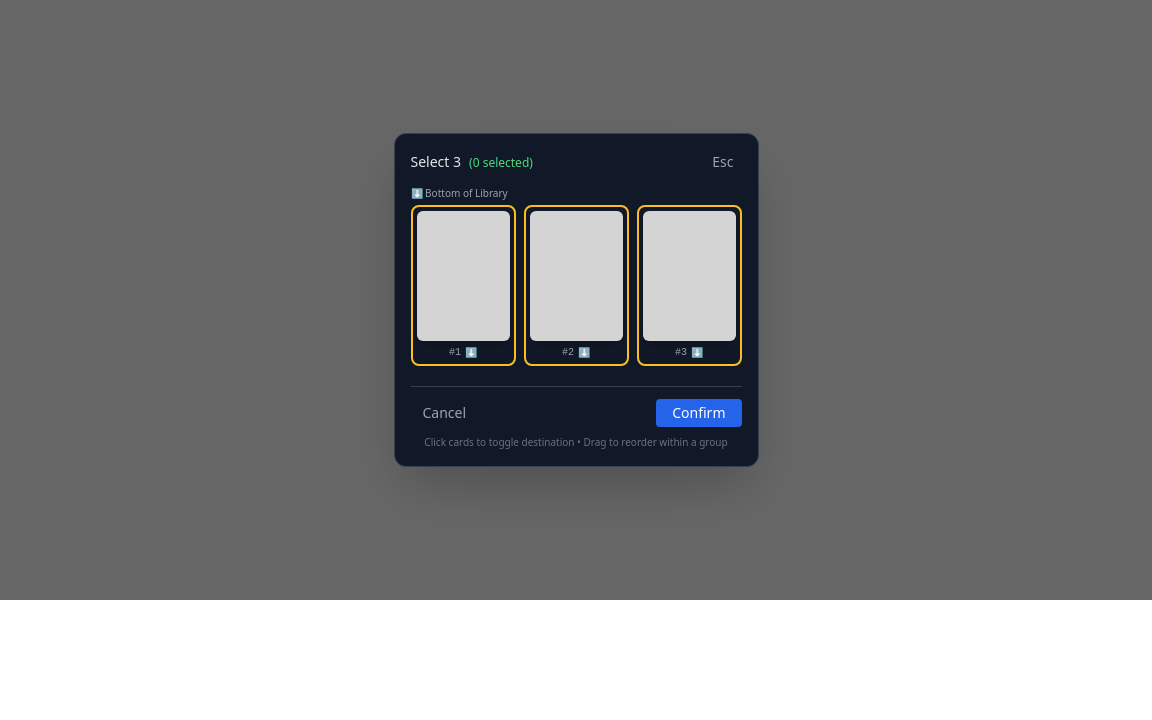
Test: PeekModal › select mode › click moves card to hand and shows selected count
This screenshot has width=1152, height=720.
Step 1. Click the button named "img" → (463, 286), box left=410, top=205, right=516, bottom=366
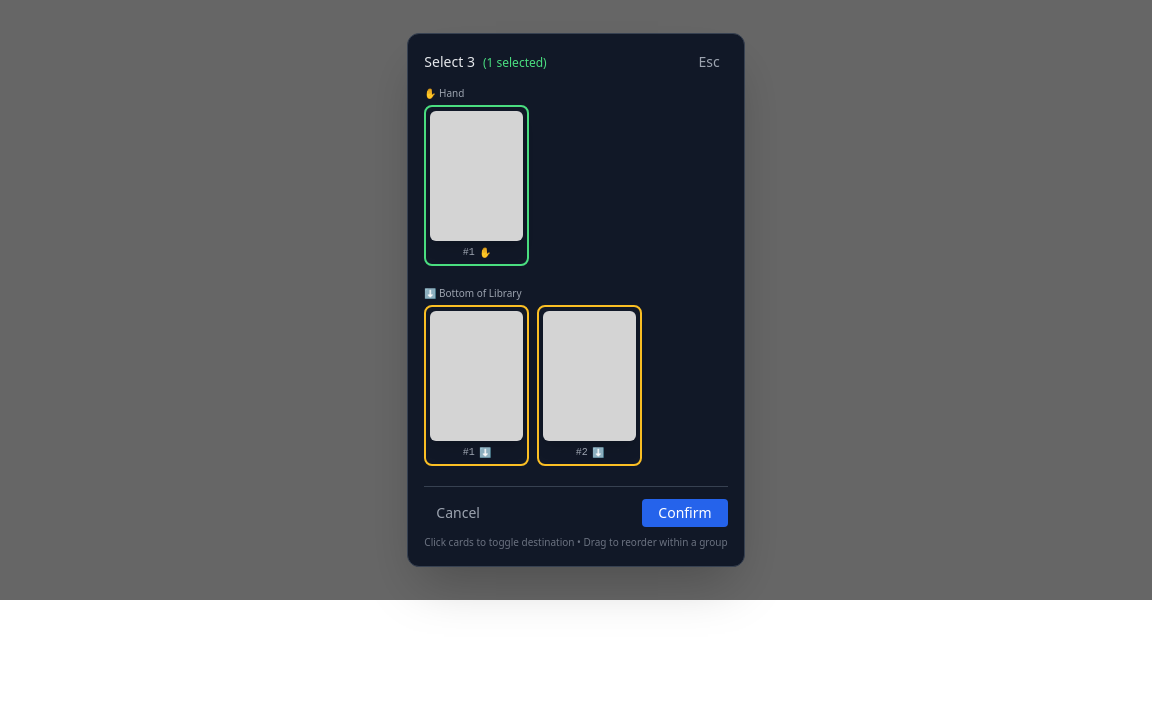
Expected: the text "(1 selected)" is shown, left=483, top=54, right=547, bottom=71
